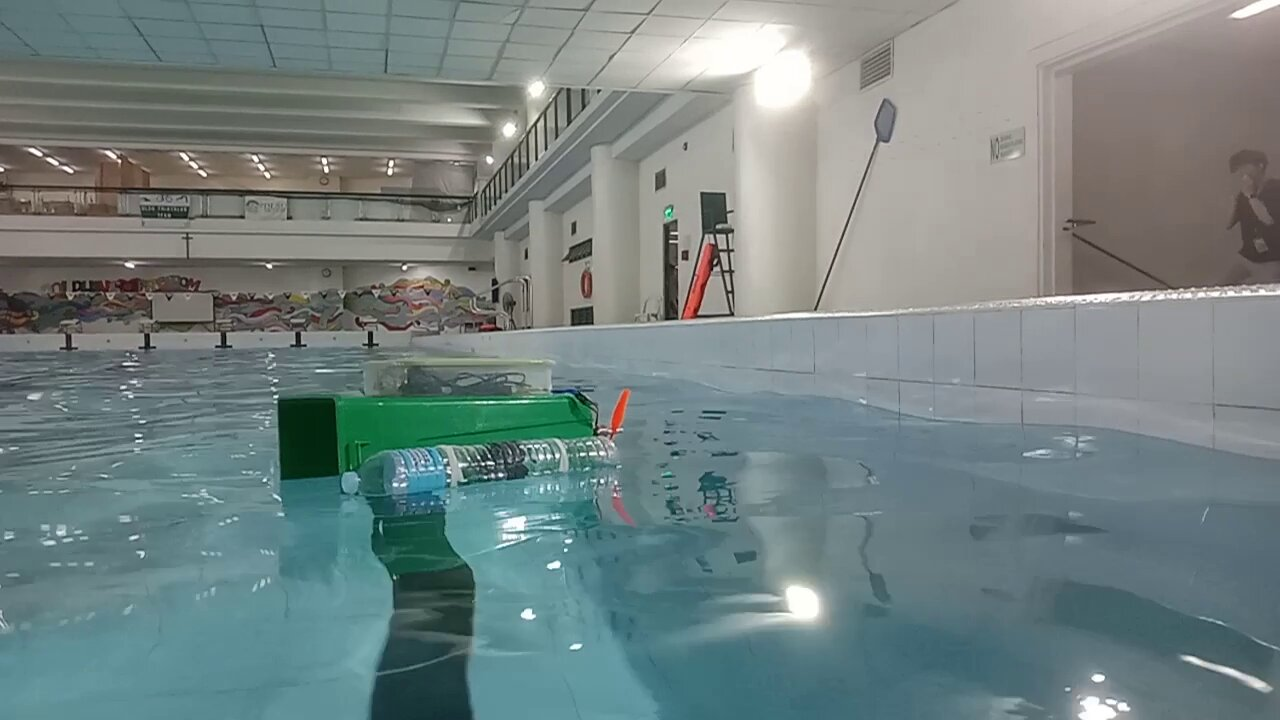drone: (276, 357, 630, 499)
